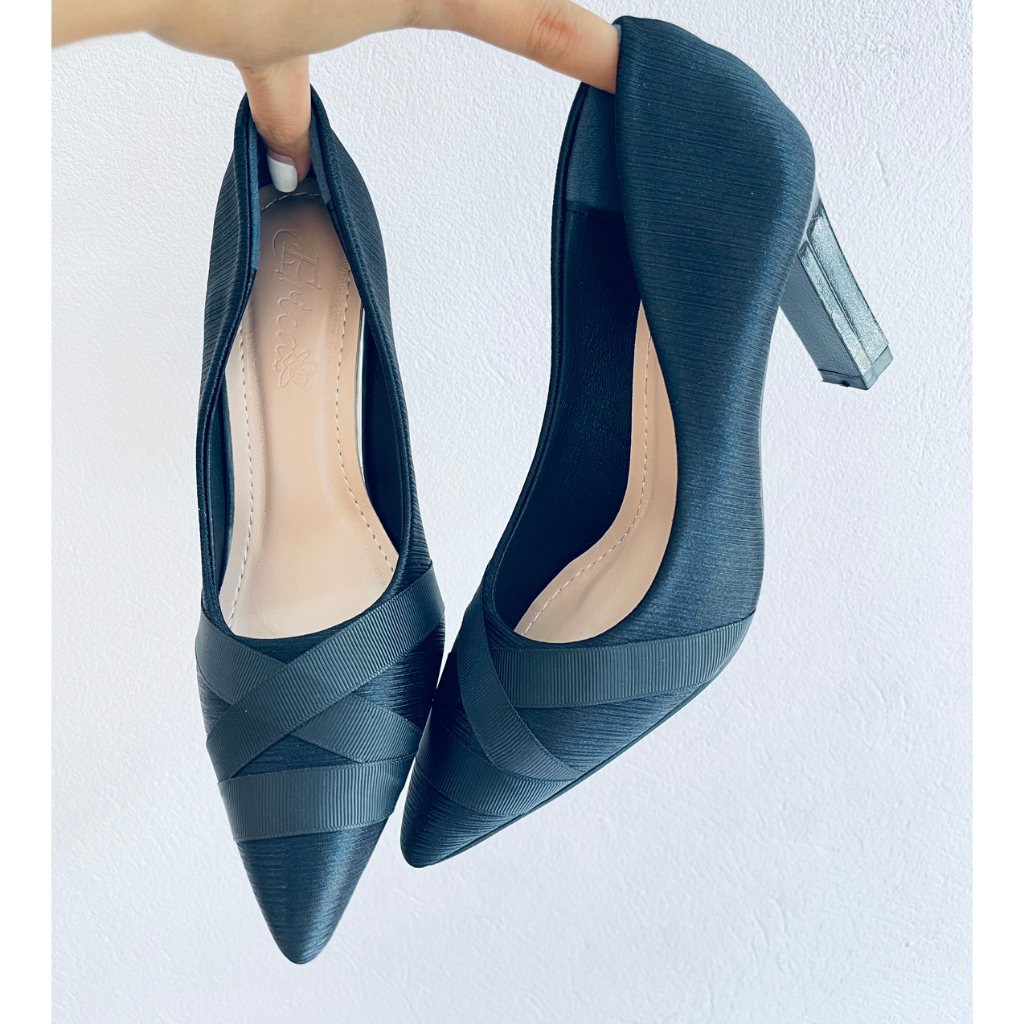high heels: (401, 16, 891, 867), (190, 80, 444, 967)
